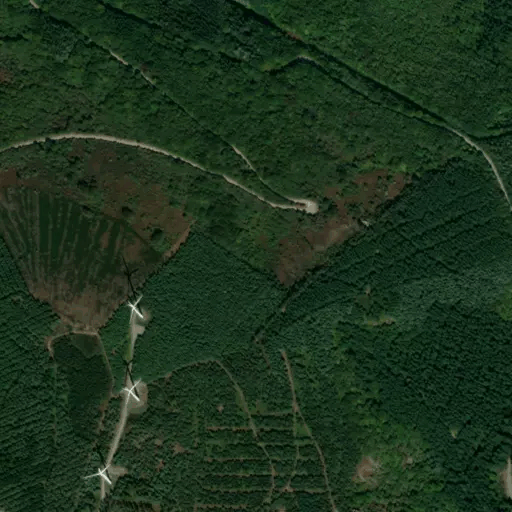wt: (119, 257, 148, 325), (120, 356, 144, 406), (91, 438, 115, 486)
